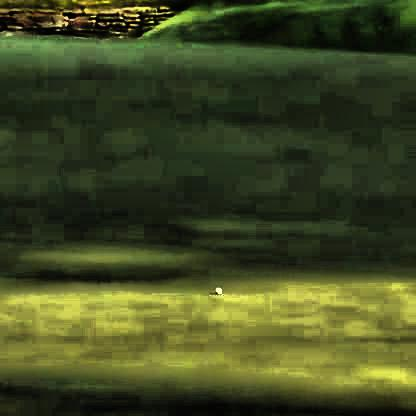golfball: (212, 283, 219, 293)
